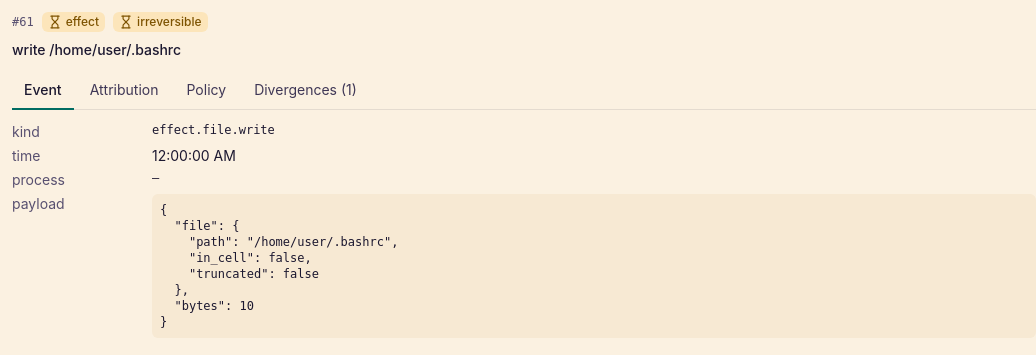
Test: Inspector › lists the divergences citing the selected event
Click the tab "Divergences (1)": (305, 91) x1=242 y1=72 x2=369 y2=110
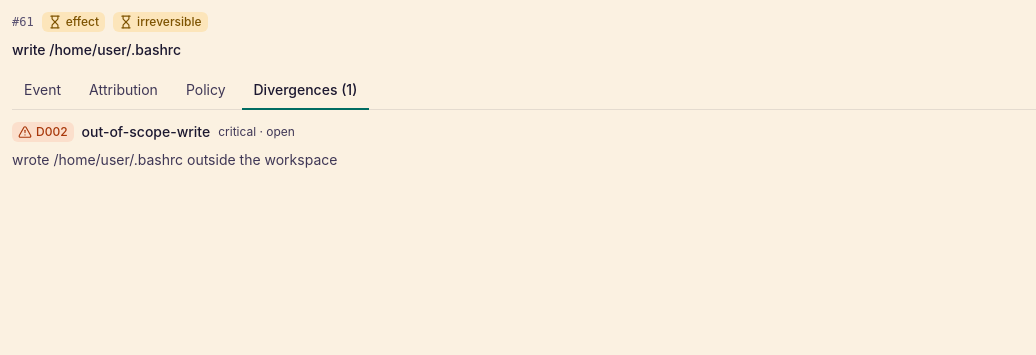
Result: the text "out-of-scope-write" is shown at x1=82 y1=122 x2=210 y2=142
Result: the text "wrote /home/user/.bashrc outside the workspace" is shown at x1=12 y1=151 x2=337 y2=168
